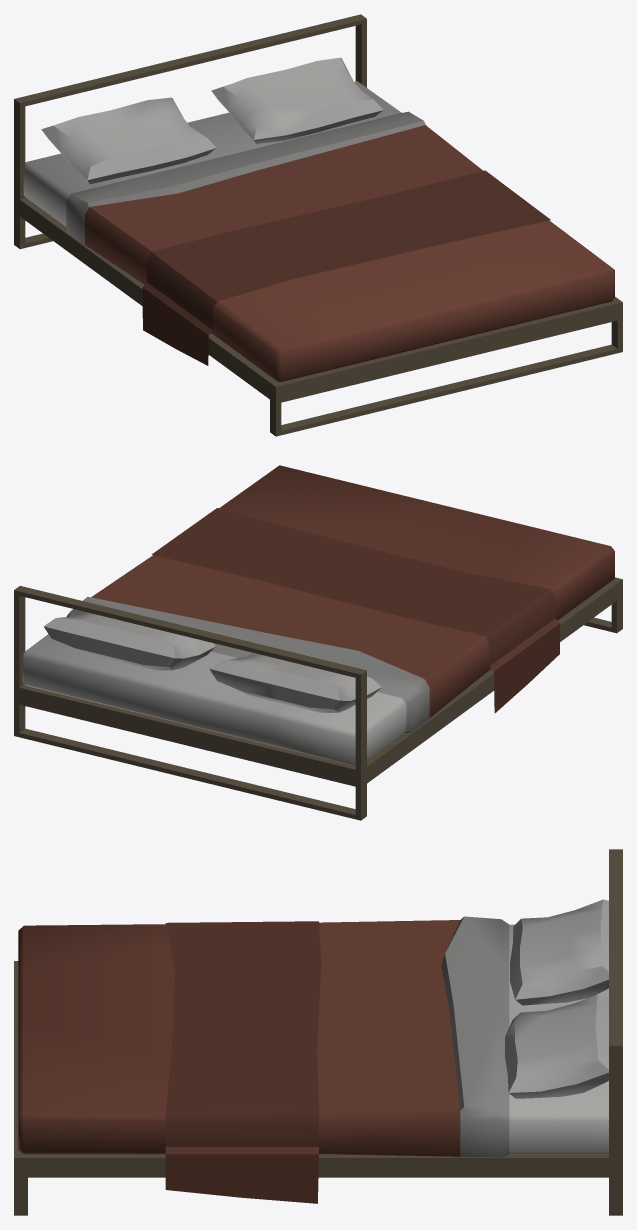
Rendered from Q_BedKing.glb.
3 renders of one model, top to bottom at view 1: azimuth 30°, elevation 25°; view 2: azimuth 150°, elevation 25°; view 3: azimuth 270°, elevation 25°, orthographic. The views are drawn at different scales.
Visible parts, largest first — view 1: Bed_King; view 2: Bed_King; view 3: Bed_King.
Part boxes in pixels (<box>): Bed_King: <box>14,14,622,436</box>; Bed_King: <box>14,465,622,820</box>; Bed_King: <box>14,849,622,1215</box>.
Bounding box in the file's own units: 3.06 × 1.21 × 3.95.
